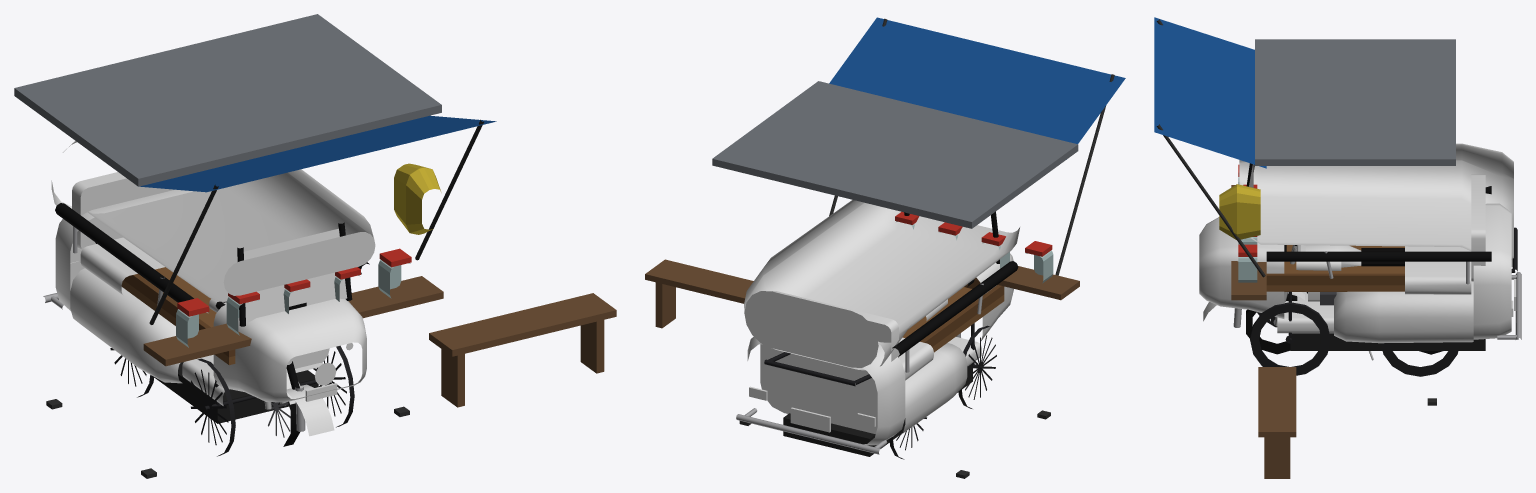
File: street.glb
3 renders of one model, left to right at view 1: azimuth 30°, elevation 25°; view 2: azimuth 150°, elevation 25°; view 3: azimuth 270°, elevation 25°, orthographic. The views are drawn at different scales.
Parts seen in each view (by area): view 1: kiosk_extra, auto_canvas, auto_body, auto_dark, cart, auto_seat, auto_glass, bike_dark; view 2: kiosk_extra, auto_canvas, auto_body, auto_dark, cart, auto_seat, auto_glass, auto_plate; view 3: kiosk_extra, auto_canvas, auto_body, cart, auto_dark, auto_seat, bike_dark, bike_body.
Boxes of the visible parts, bbox=[...] form: kiosk_extra: bbox=[14, 14, 616, 478]; auto_canvas: bbox=[51, 141, 375, 301]; auto_body: bbox=[55, 189, 366, 436]; auto_dark: bbox=[43, 203, 369, 431]; cart: bbox=[95, 242, 354, 456]; auto_seat: bbox=[72, 172, 226, 312]; auto_glass: bbox=[243, 228, 347, 322]; bike_dark: bbox=[222, 301, 299, 446]; kiosk_extra: bbox=[645, 17, 1125, 478]; auto_canvas: bbox=[744, 200, 1019, 370]; auto_body: bbox=[747, 253, 1013, 445]; auto_dark: bbox=[736, 211, 1018, 456]; cart: bbox=[764, 279, 1004, 459]; auto_seat: bbox=[772, 291, 947, 380]; auto_glass: bbox=[784, 308, 838, 341]; auto_plate: bbox=[790, 407, 830, 432]; kiosk_extra: bbox=[1154, 17, 1455, 478]; auto_canvas: bbox=[1239, 143, 1513, 259]; auto_body: bbox=[1199, 203, 1511, 343]; cart: bbox=[1250, 227, 1517, 376]; auto_dark: bbox=[1233, 163, 1521, 350]; auto_seat: bbox=[1296, 174, 1485, 301]; bike_dark: bbox=[1246, 245, 1442, 360]; bike_body: bbox=[1292, 245, 1361, 299].
Bounding box in the file's own units: 3.8 × 2.63 × 3.11.
